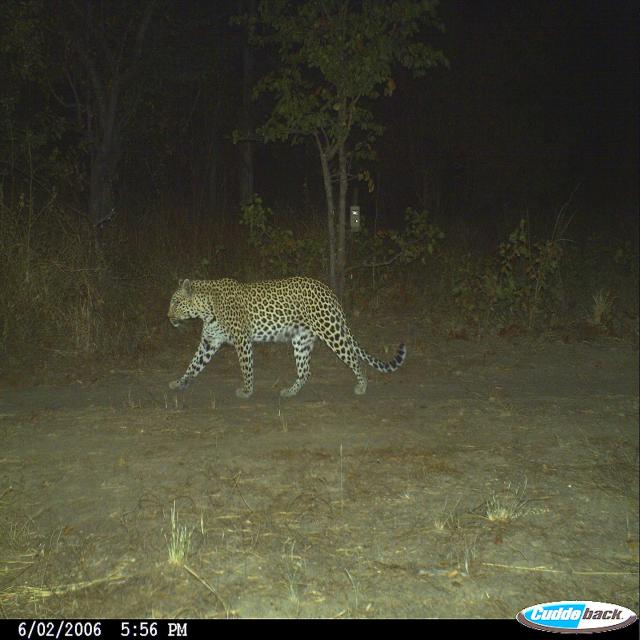Leopard: (157, 273, 421, 412)
